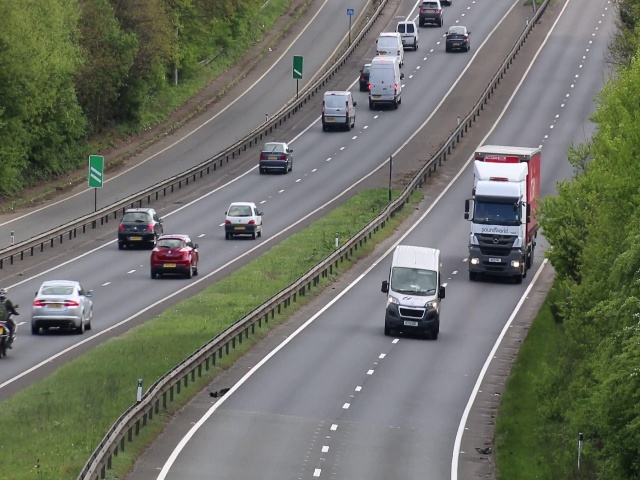car: (472, 145, 541, 283), (386, 245, 440, 341), (32, 281, 92, 334), (150, 233, 199, 278), (117, 208, 163, 248), (371, 58, 401, 111), (321, 90, 356, 134), (224, 200, 263, 239), (259, 141, 293, 175), (377, 32, 404, 62), (445, 24, 470, 54), (397, 21, 419, 52), (419, 2, 442, 27), (359, 63, 368, 93)
